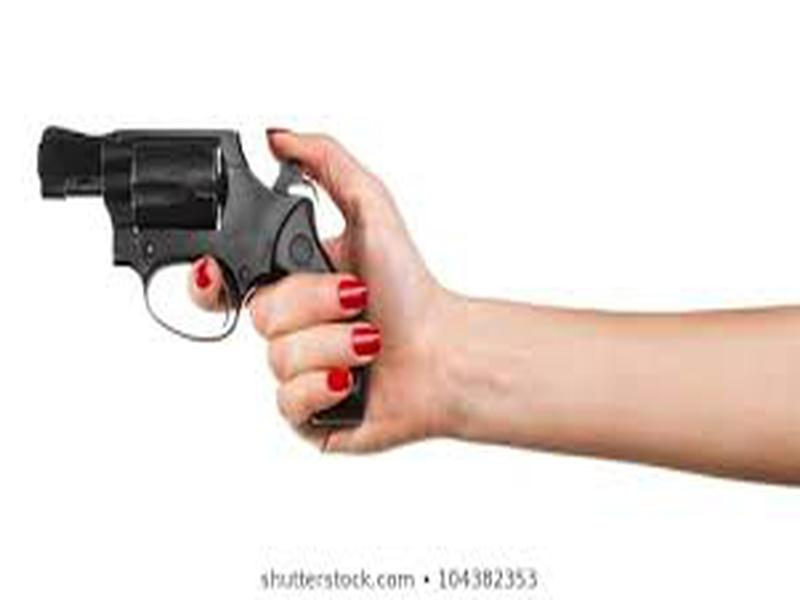gun: (33, 122, 463, 460)
